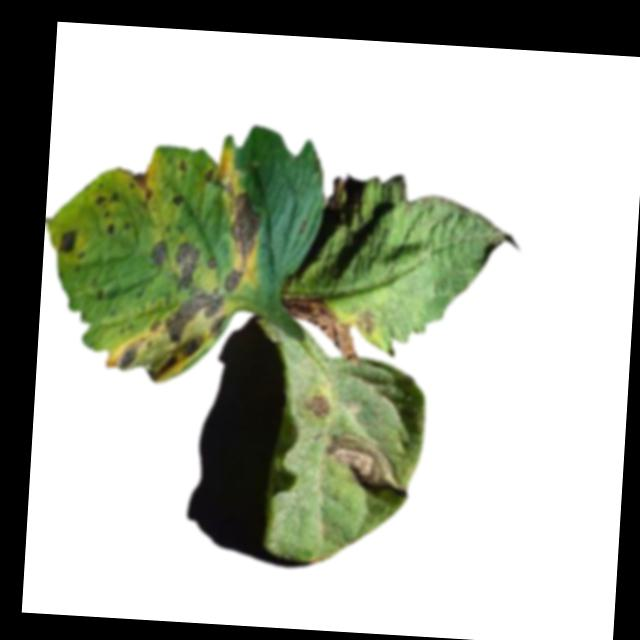Early_blight: (104, 280, 228, 388), (279, 294, 364, 368), (317, 431, 406, 499), (222, 189, 264, 266), (169, 241, 200, 291), (130, 167, 153, 207), (54, 229, 78, 258), (220, 267, 244, 294), (304, 396, 329, 419), (96, 189, 122, 209), (150, 241, 168, 266), (170, 195, 184, 209), (103, 221, 116, 236), (206, 257, 218, 271), (204, 167, 215, 182)
